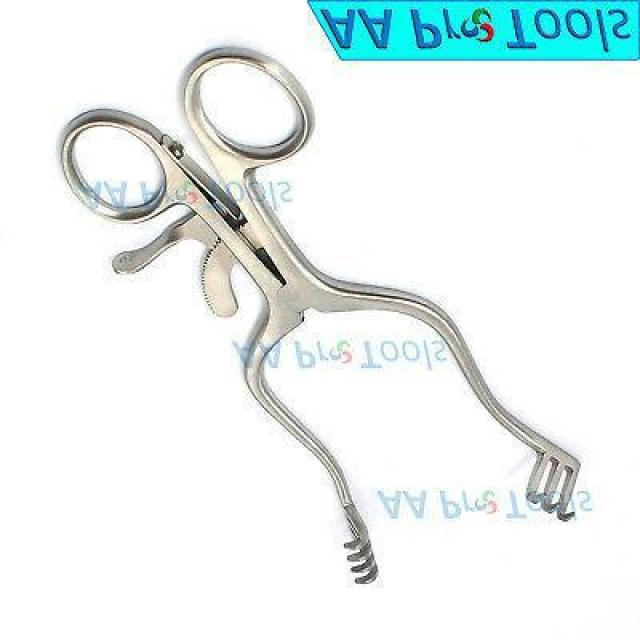Weitlaner: (51, 43, 587, 589)
